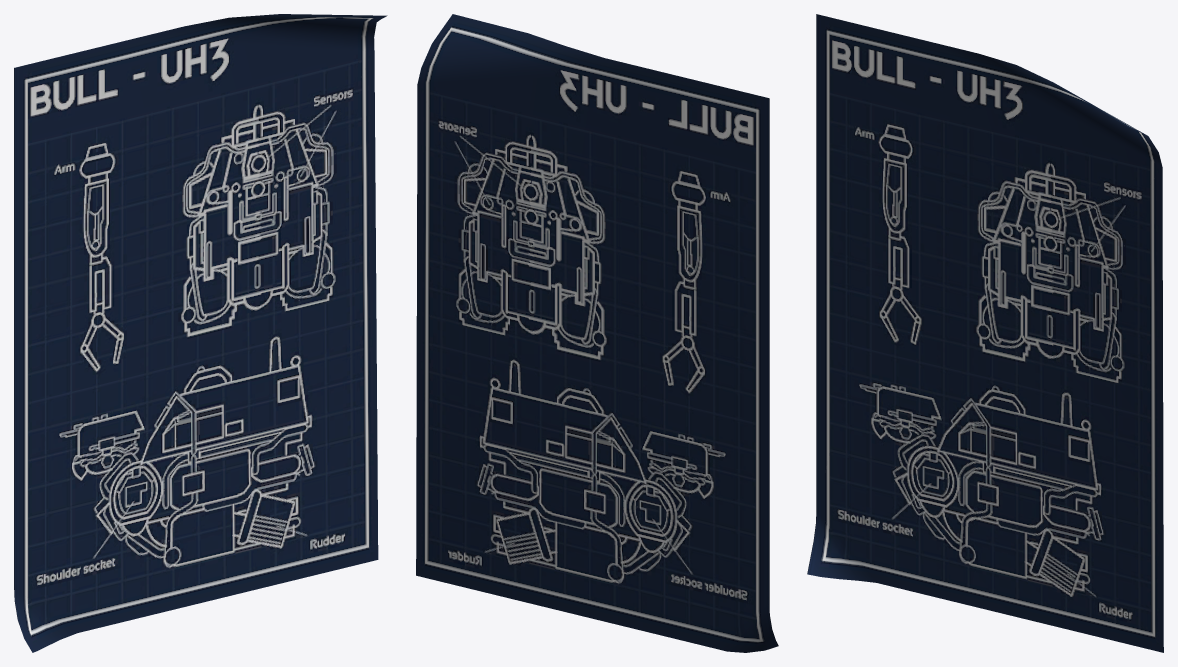
Rendered from poster_robot_repair_bull.dae.
3 renders of one model, left to right at view 1: azimuth 30°, elevation 25°; view 2: azimuth 150°, elevation 25°; view 3: azimuth 330°, elevation 25°, orthographic. The views are drawn at different scales.
Visible parts, largest first — view 1: bull; view 2: bull; view 3: bull.
Boxes of the visible parts, x1,y1,x2,y2 form: bull: [14, 14, 387, 652]; bull: [416, 14, 778, 652]; bull: [807, 14, 1163, 652].
Bounding box in the file's own units: 0.6562 × 1 × 0.0776.
